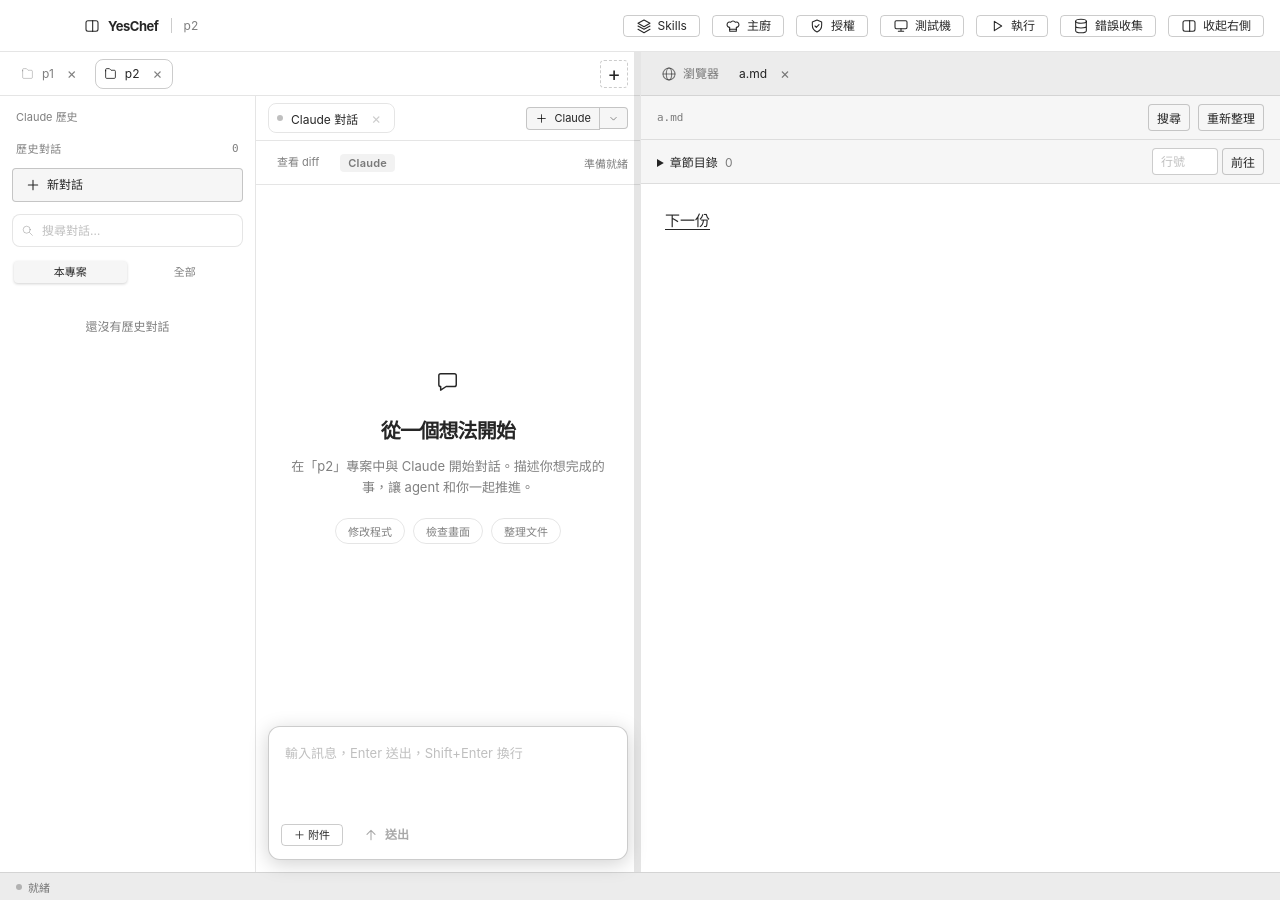
Test: 切換專案後，已開啟文件內的連結仍讀原專案
Click the link "下一份".
click(688, 220)  # box [665,211,710,230]
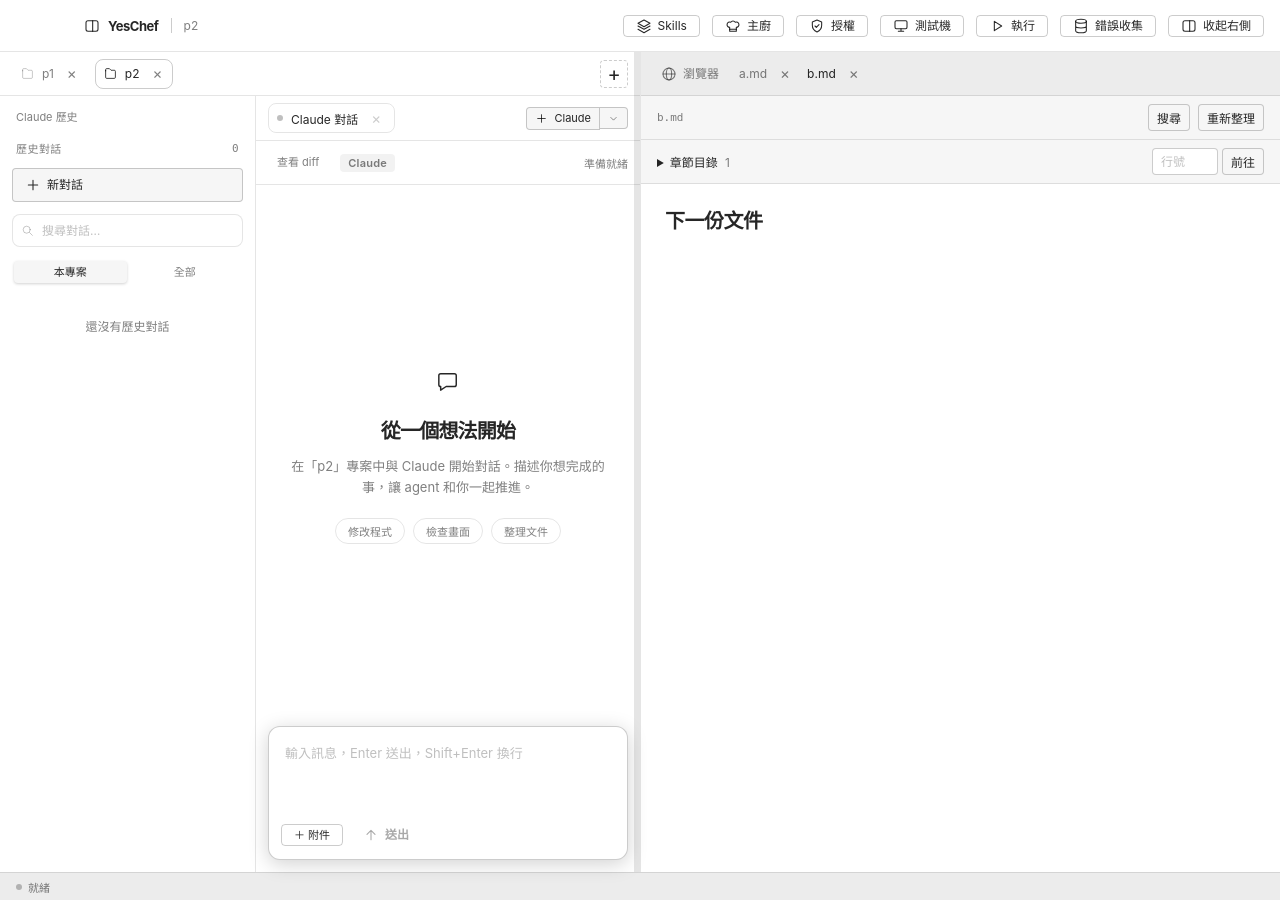
Check: the heading "下一份文件" is shown, box [665,209,762,233]
